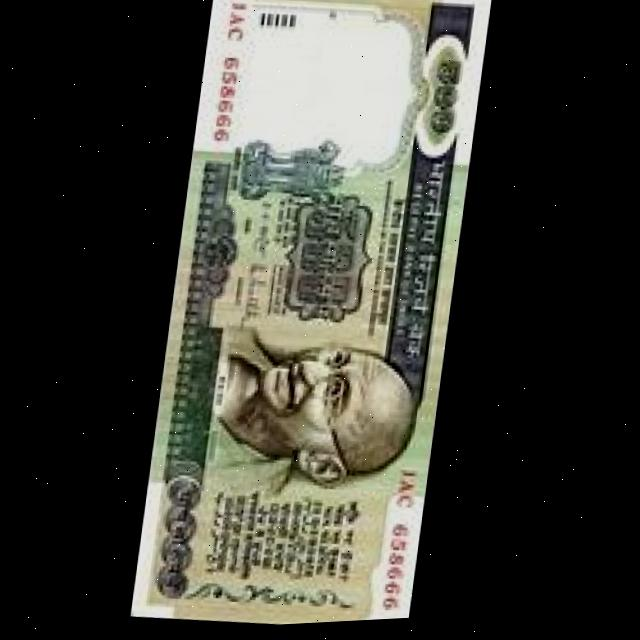banknote: (132, 0, 495, 634)
